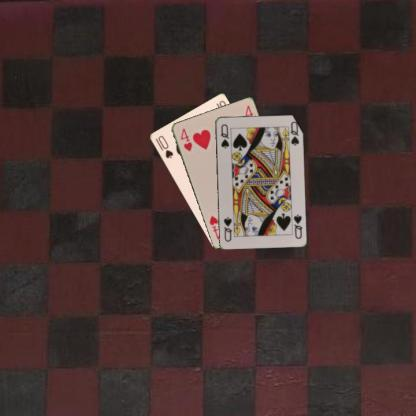10s: (156, 133, 174, 159)
4h: (177, 126, 193, 152)
Qs: (218, 121, 230, 150), (292, 211, 303, 240)
